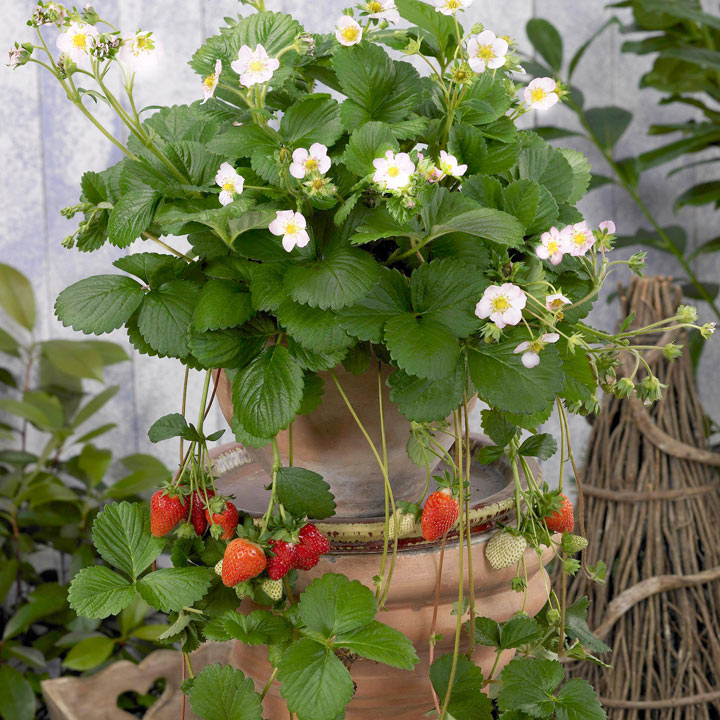ripe_strawberry: (282, 182, 329, 234), (474, 230, 518, 283), (348, 198, 391, 251), (214, 229, 255, 280), (320, 191, 355, 243), (585, 238, 626, 282), (267, 227, 303, 270), (250, 231, 280, 280)
unripe_strawberry: (531, 202, 579, 249), (443, 230, 477, 270), (606, 219, 639, 243), (321, 170, 345, 195), (292, 171, 316, 191), (276, 192, 285, 211)
